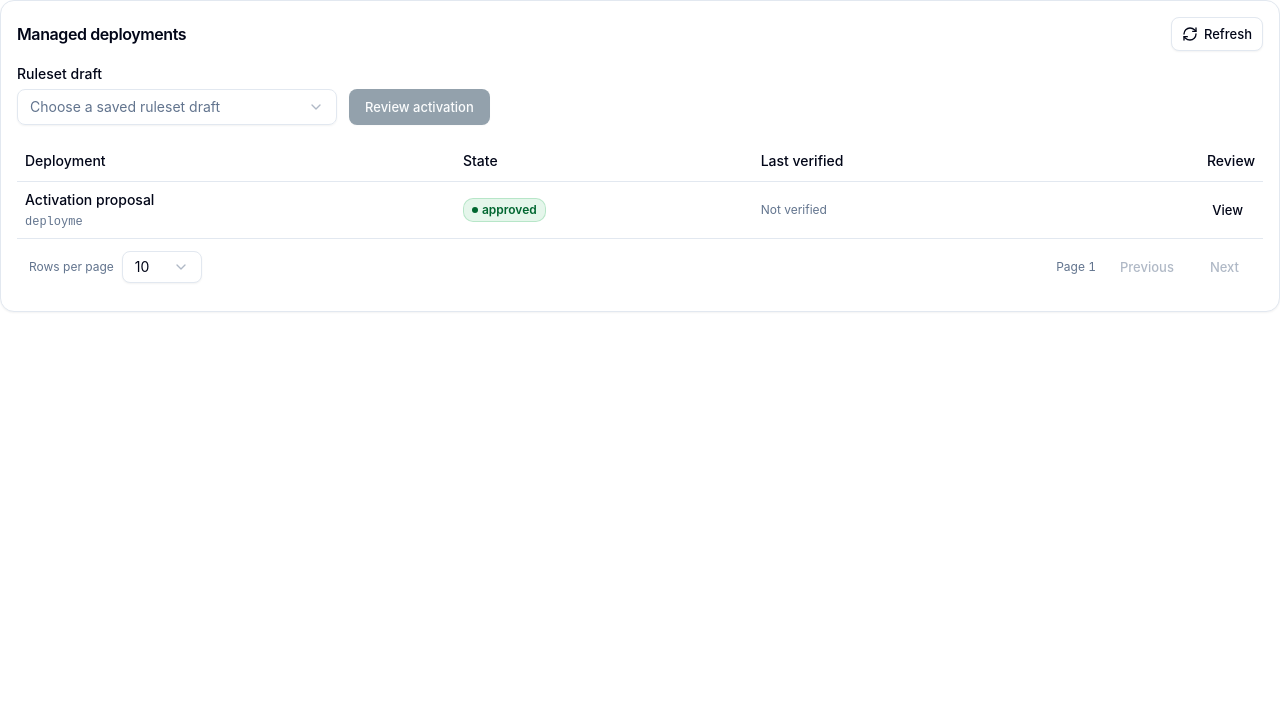
Test: notifies failed activation once and keeps its actionable error in the drawer
The image size is (1280, 720).
Click the button "View": (1228, 210) [1200, 194, 1255, 226]
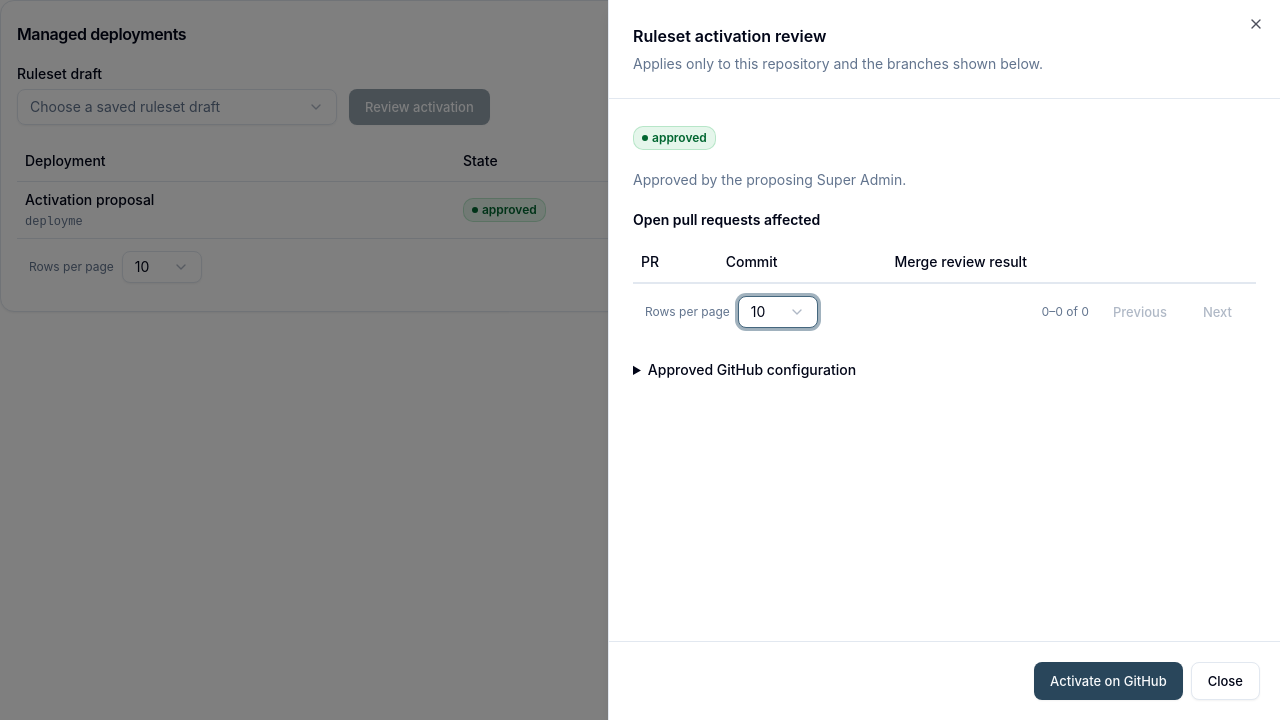
Click the button "Activate on GitHub": (1108, 681) [1034, 662, 1183, 700]
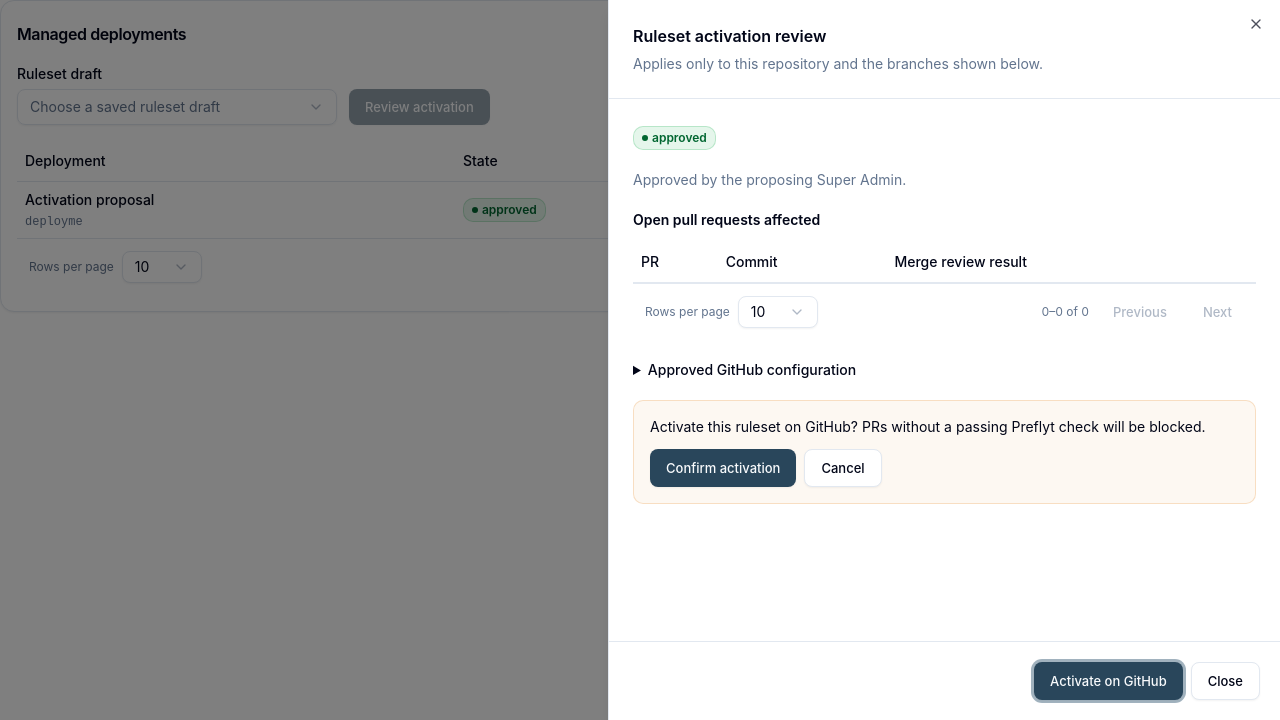
Click the button "Confirm activation": (723, 468) [650, 448, 796, 486]
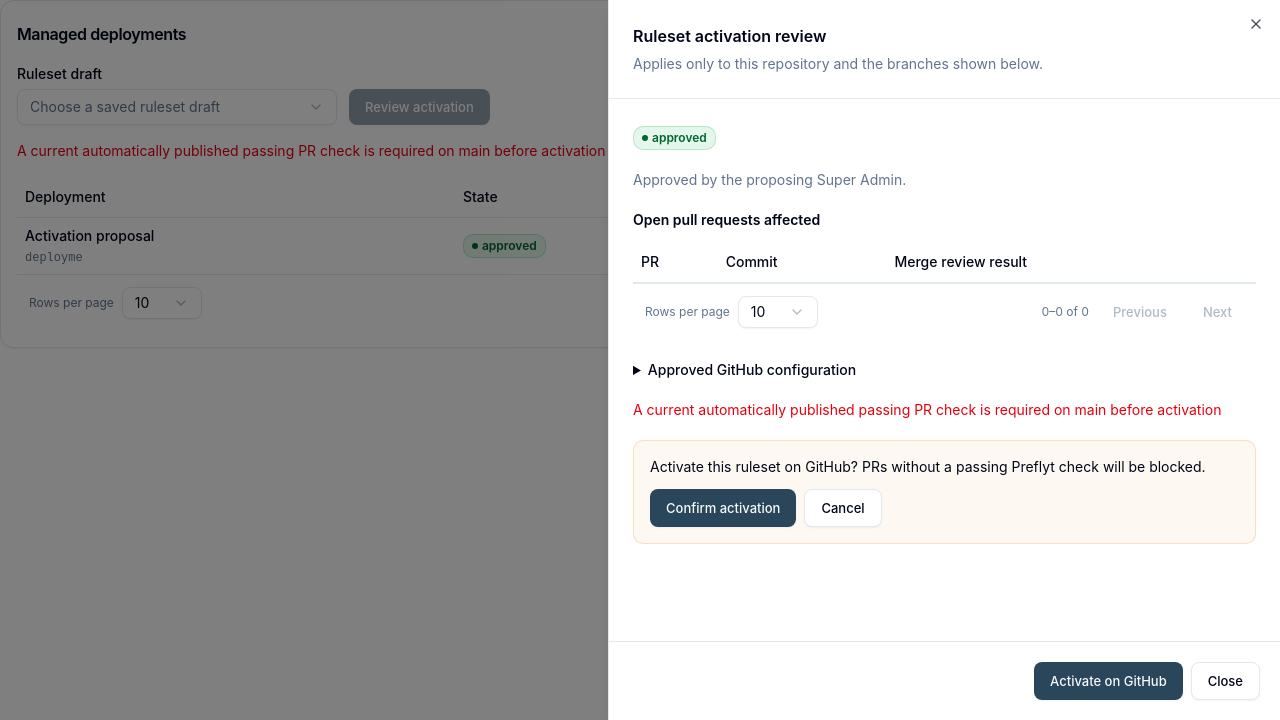
Expected: the button "Confirm activation" is enabled, [650, 488, 796, 526]
Expected: the message shows "A current automatically published passing PR check is required on main before activation", [633, 400, 1222, 418]
